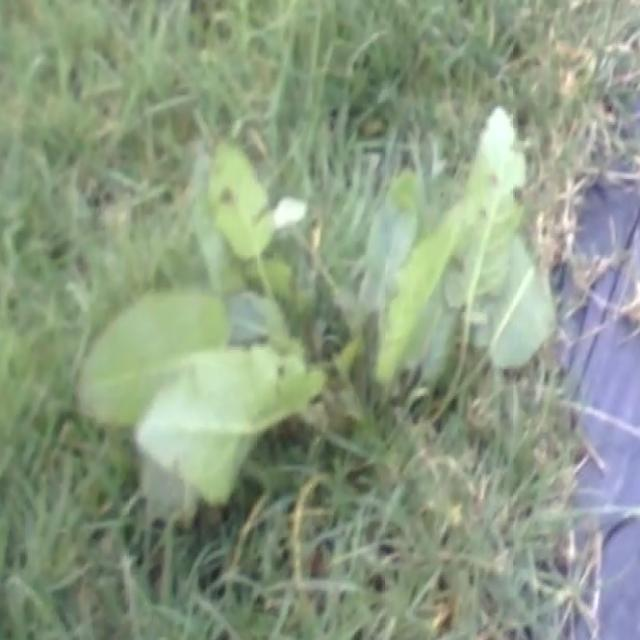organic waste: (104, 100, 585, 530), (22, 103, 364, 556)
